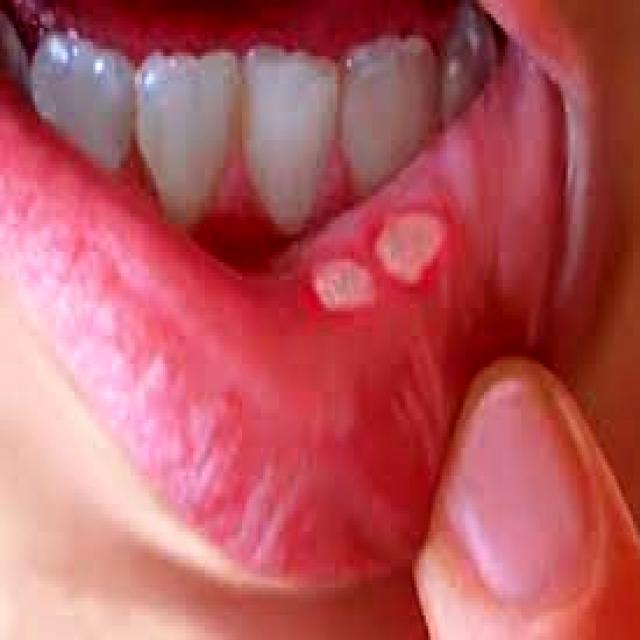ulcer: (375, 213, 445, 283), (312, 259, 372, 308)
